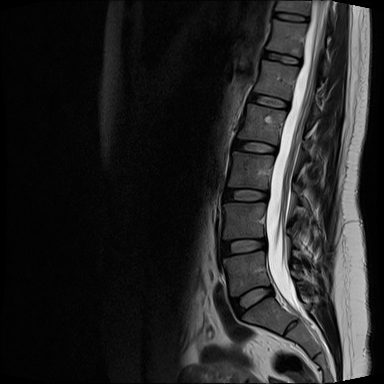Normal IVD: (227, 279, 276, 324), (218, 231, 270, 261), (218, 184, 273, 206), (228, 136, 281, 157), (261, 46, 306, 70), (248, 89, 292, 112), (269, 10, 313, 25)
